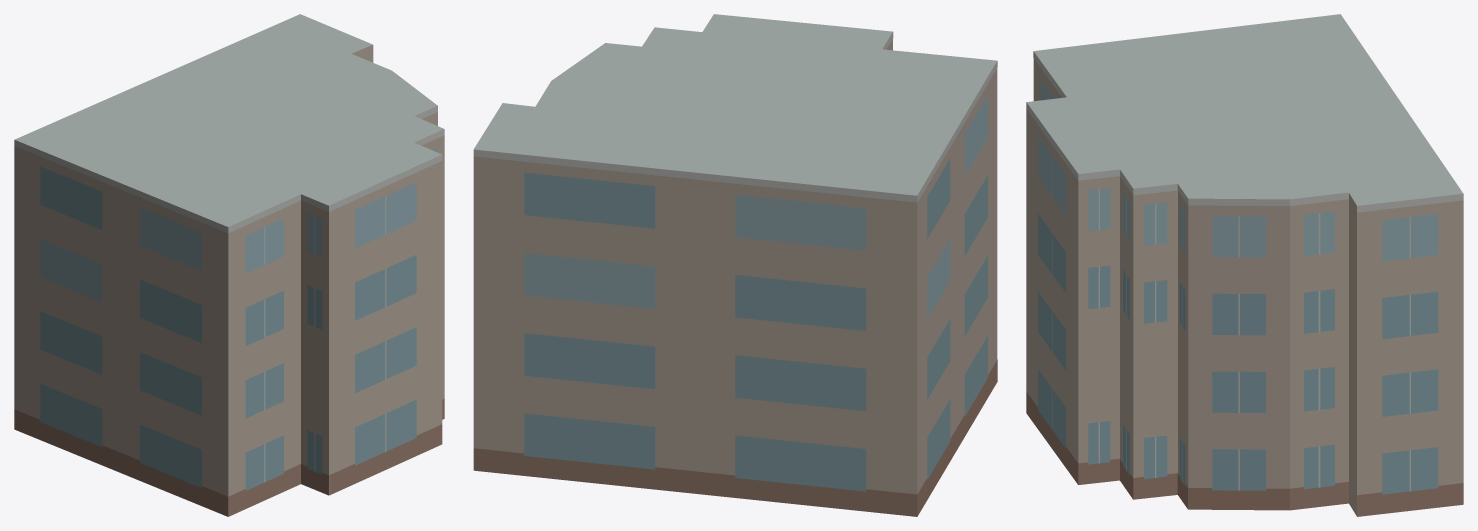
Rendered from survey-upis-32693127.glb.
3 renders of one model, left to right at view 1: azimuth 30°, elevation 25°; view 2: azimuth 150°, elevation 25°; view 3: azimuth 270°, elevation 25°, orthographic. The views are drawn at different scales.
Parts seen in each view (by area): view 1: survey-upis-32693127.tmp; view 2: survey-upis-32693127.tmp; view 3: survey-upis-32693127.tmp.
Part boxes in pixels (bbox=[...]): survey-upis-32693127.tmp: bbox=[14, 14, 444, 516]; survey-upis-32693127.tmp: bbox=[473, 14, 997, 516]; survey-upis-32693127.tmp: bbox=[1026, 14, 1463, 516].
Size of the model in its own units: 15.07 by 11.38 by 14.51.
